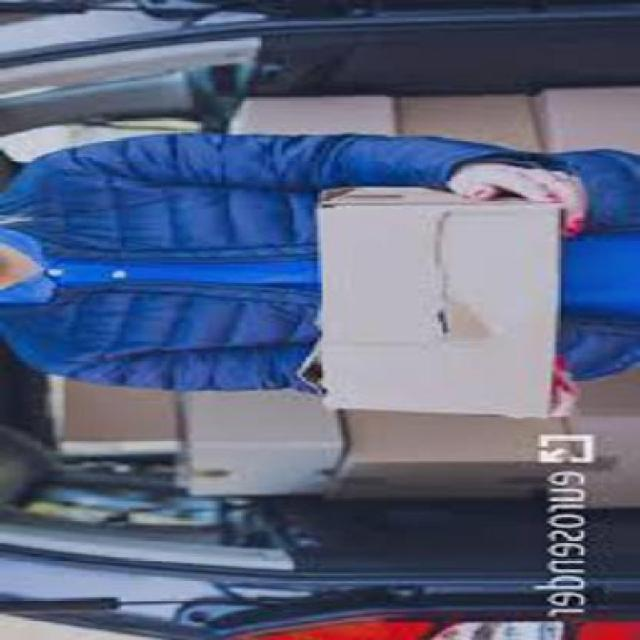defect: (288, 179, 562, 423)
